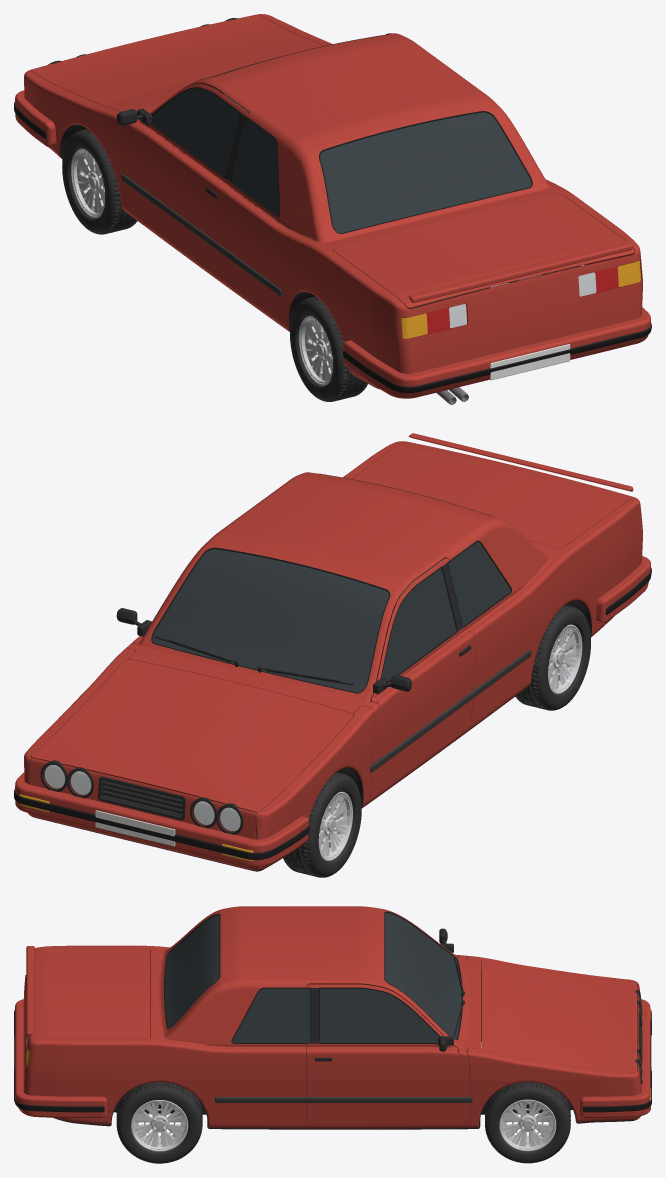
The model's file is adler.glb.
3 views of the same model, one above another, from view 1: azimuth 30°, elevation 25°; view 2: azimuth 150°, elevation 25°; view 3: azimuth 270°, elevation 25° (orthographic). The views are drawn at different scales.
Visible parts, largest first — view 1: Body, Trunk, Glass_Rear, Hood, Door_FL, Bumper_R, Glass_FL, Fender_FL, Glass_QL, Wheel_RL_Tyre, Wheel_FL_Tyre, Bumper_R_Strip (+7 smaller); view 2: Body, Hood, Glass_Front, Trunk, Door_FL, Bumper_F, Fender_FL, Glass_FL, Glass_QL, Wheel_RL_Tyre, Wheel_FL_Tyre, Bumper_F_Strip (+10 smaller); view 3: Body, Hood, Door_FR, Trunk, Glass_Front, Fender_FR, Glass_FR, Glass_Rear, Glass_QR, Wheel_RR_Tyre, Wheel_FR_Tyre, Bumper_R (+7 smaller).
Part boxes in pixels (x1,y1,x2,y2): Body: (55, 33, 642, 389); Trunk: (333, 194, 634, 308); Glass_Rear: (319, 111, 532, 233); Hood: (31, 14, 323, 111); Door_FL: (122, 83, 249, 280); Bumper_R: (343, 307, 650, 398); Glass_FL: (150, 87, 240, 177); Fender_FL: (24, 70, 125, 204); Glass_QL: (230, 116, 280, 216); Wheel_RL_Tyre: (290, 296, 367, 401); Wheel_FL_Tyre: (62, 129, 137, 234); Bumper_R_Strip: (343, 323, 651, 393); Body: (27, 441, 642, 871); Hood: (31, 659, 353, 812); Glass_Front: (151, 547, 390, 693); Trunk: (352, 433, 634, 548); Door_FL: (370, 558, 474, 796); Bumper_F: (15, 772, 308, 867); Fender_FL: (256, 706, 373, 870); Glass_FL: (380, 566, 457, 682); Glass_QL: (447, 540, 511, 627); Wheel_RL_Tyre: (515, 605, 590, 710); Wheel_FL_Tyre: (283, 772, 361, 877); Bumper_F_Strip: (14, 789, 309, 859); Body: (23, 906, 641, 1129); Hood: (481, 961, 636, 1072); Door_FR: (306, 984, 469, 1123); Trunk: (26, 946, 150, 1041); Glass_Front: (384, 911, 462, 1039); Fender_FR: (467, 1048, 640, 1122); Glass_FR: (319, 987, 439, 1044); Glass_Rear: (164, 914, 220, 1028); Glass_QR: (231, 987, 311, 1043); Wheel_RR_Tyre: (116, 1082, 202, 1163); Wheel_FR_Tyre: (485, 1082, 570, 1163); Bumper_R: (15, 999, 107, 1117).
Bounding box in the file's own units: 1.9 × 1.36 × 4.45.
